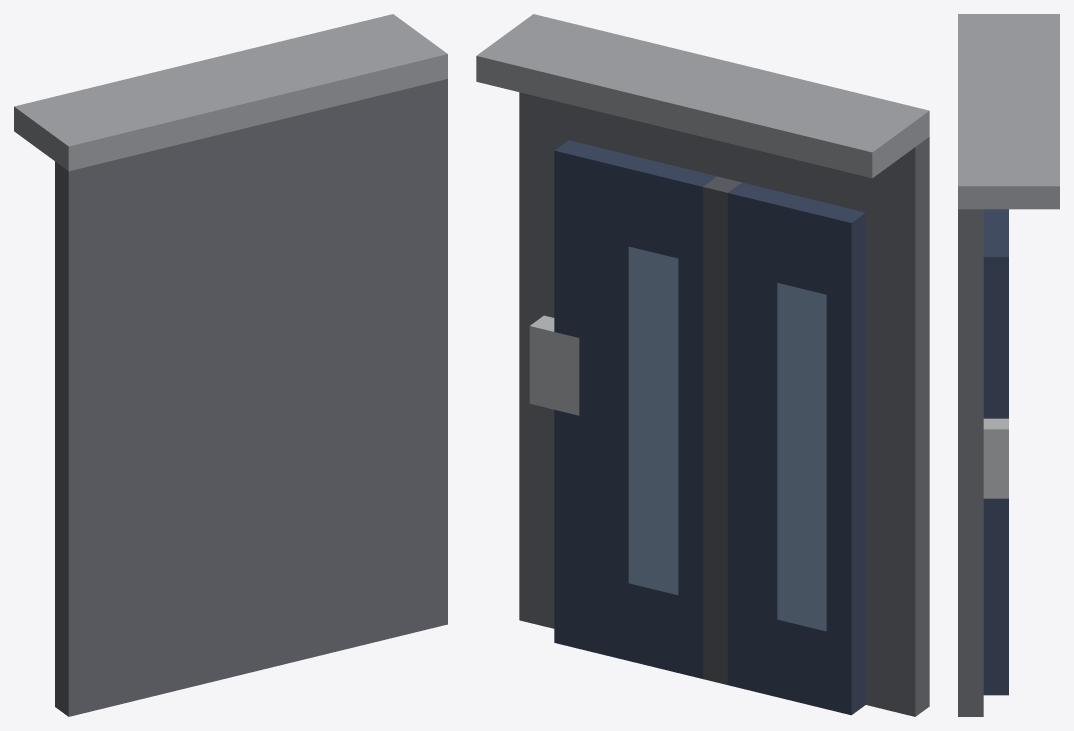
The model's file is entree_immeuble.glb.
3 renders of one model, left to right at view 1: azimuth 30°, elevation 25°; view 2: azimuth 150°, elevation 25°; view 3: azimuth 270°, elevation 25°, orthographic. The views are drawn at different scales.
Parts seen in each view (by area): view 1: main; view 2: main; view 3: main.
Part boxes in pixels (x1,y1,x2,y2): main: [14, 14, 447, 716]; main: [476, 14, 929, 716]; main: [958, 14, 1059, 716].
Bounding box in the file's own units: 2 × 2.88 × 0.5.
